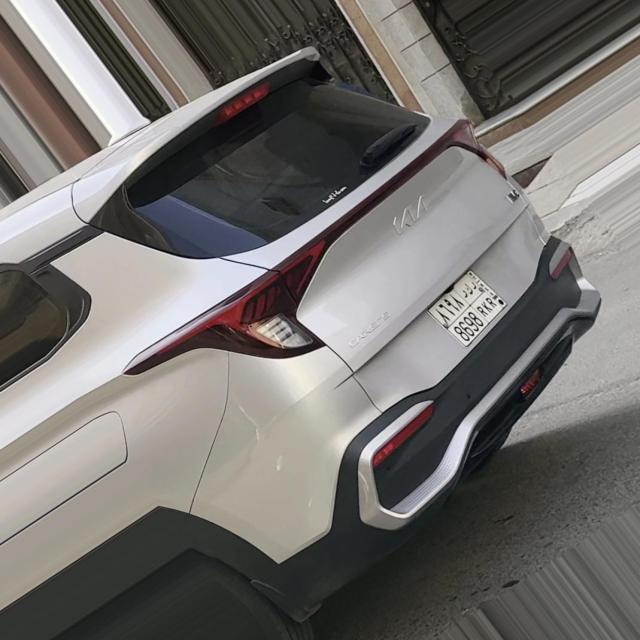Car-plate: (415, 257, 525, 360)
